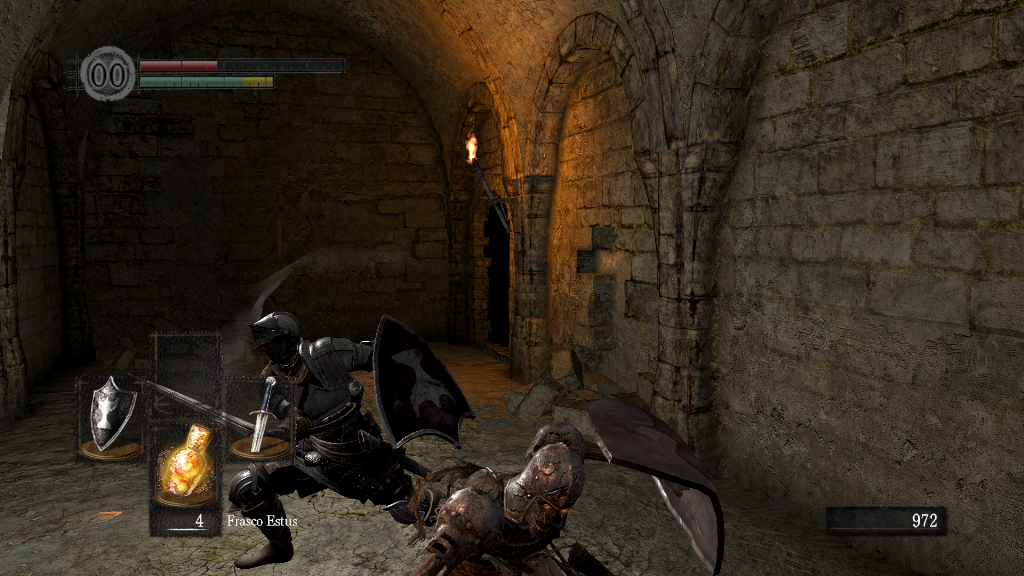health: (138, 58, 343, 71)
humanity: (80, 45, 136, 102)
player: (137, 309, 474, 569)
souls: (825, 506, 945, 536)
stamina: (138, 74, 274, 88)
undeadSoldier: (414, 391, 721, 576)
